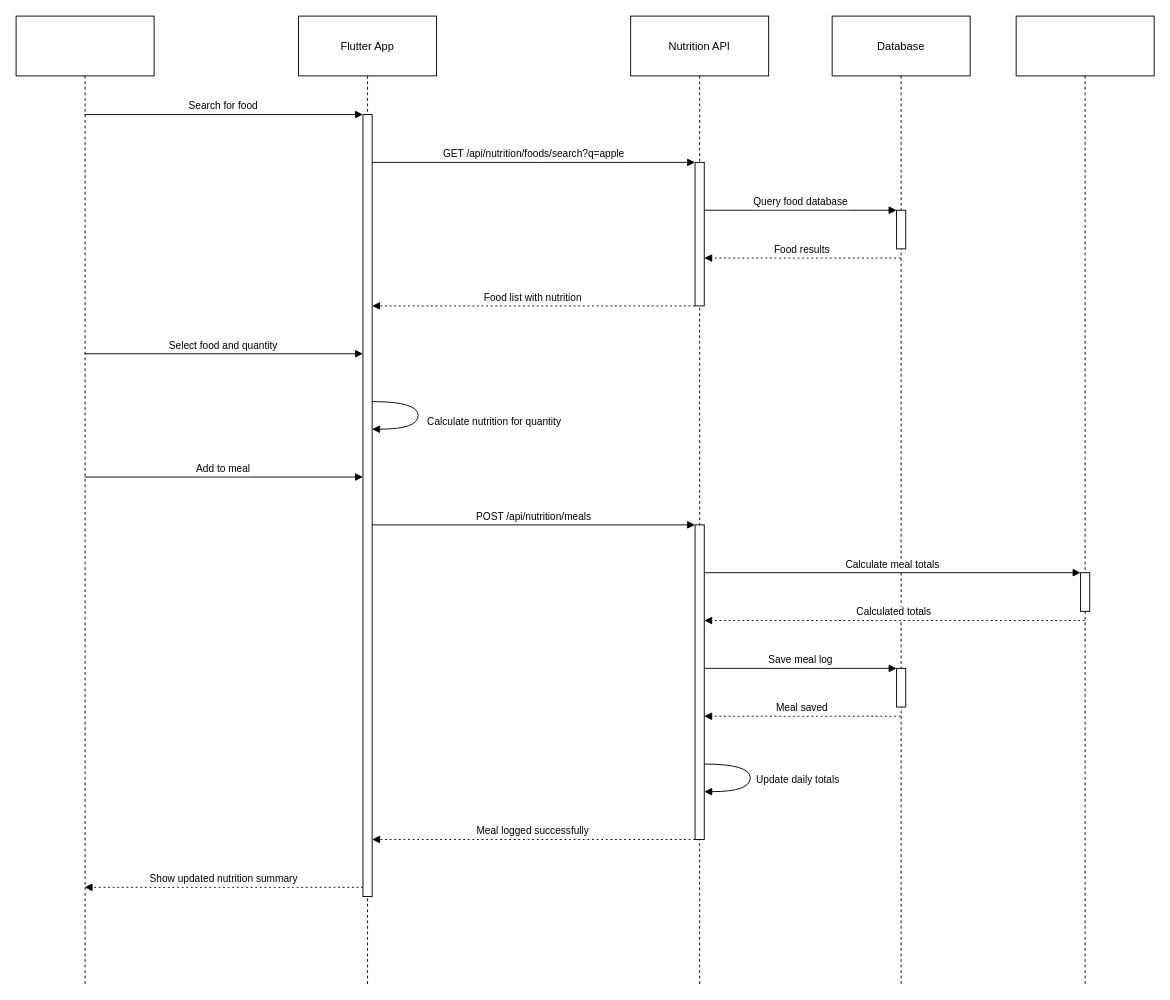
Image size: 1170x1000. Some labels were removed from this diagram. Each missing label, with the box of its shape:
Calculator: (1015, 15, 1154, 984)
User: (15, 15, 154, 984)
